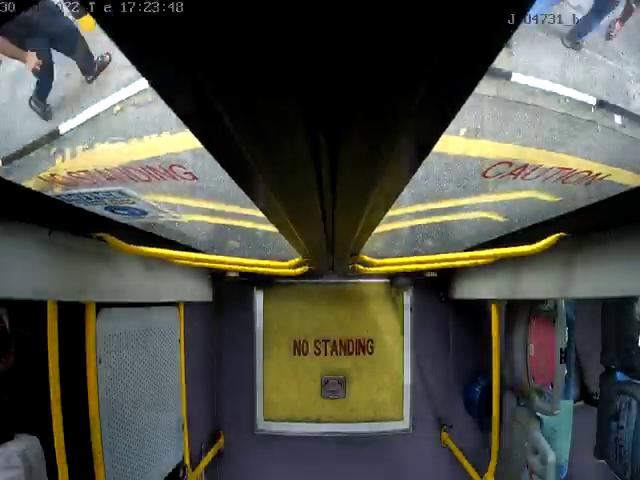close: (0, 0, 640, 84)
